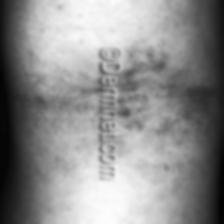Non-Cancerous Skin Condition: (129, 57, 212, 148), (8, 78, 92, 134)
